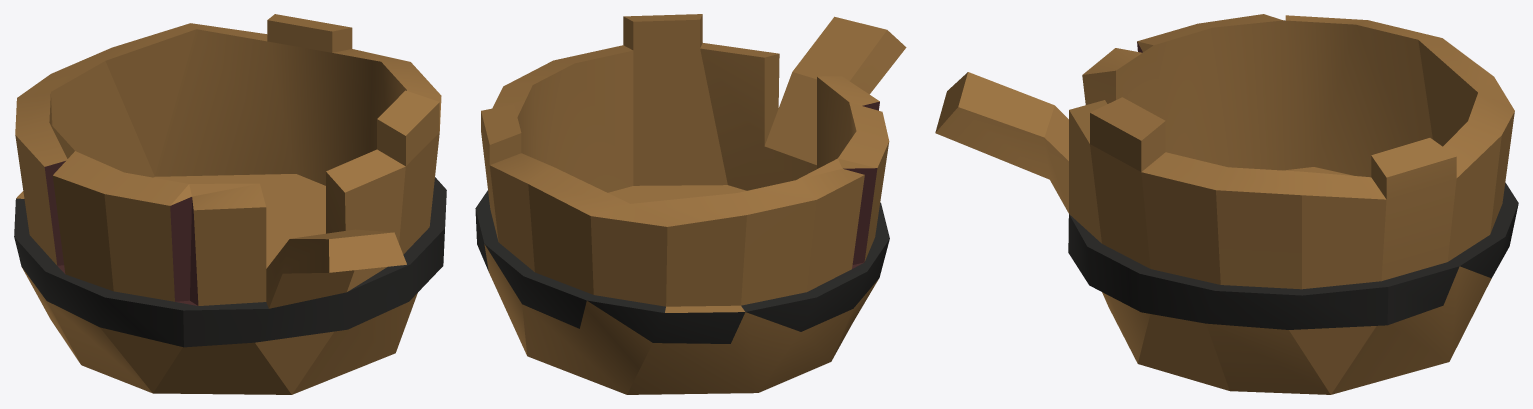
The model's file is ea_prop_container_bowl_01_pre_lev1.glb.
3 views of the same model, side by side, from view 1: azimuth 30°, elevation 25°; view 2: azimuth 150°, elevation 25°; view 3: azimuth 270°, elevation 25° (orthographic). The views are drawn at different scales.
Visible parts, largest first — view 1: ea_prop_container_bowl_01_pre_lev1; view 2: ea_prop_container_bowl_01_pre_lev1; view 3: ea_prop_container_bowl_01_pre_lev1.
Boxes of the visible parts, <box> form: ea_prop_container_bowl_01_pre_lev1: <box>14,14,446,394</box>; ea_prop_container_bowl_01_pre_lev1: <box>475,14,906,394</box>; ea_prop_container_bowl_01_pre_lev1: <box>935,14,1518,394</box>.
Bounding box in the file's own units: 0.6917 × 0.4361 × 0.8881.
Materials: 1 (1 with a texture image).
